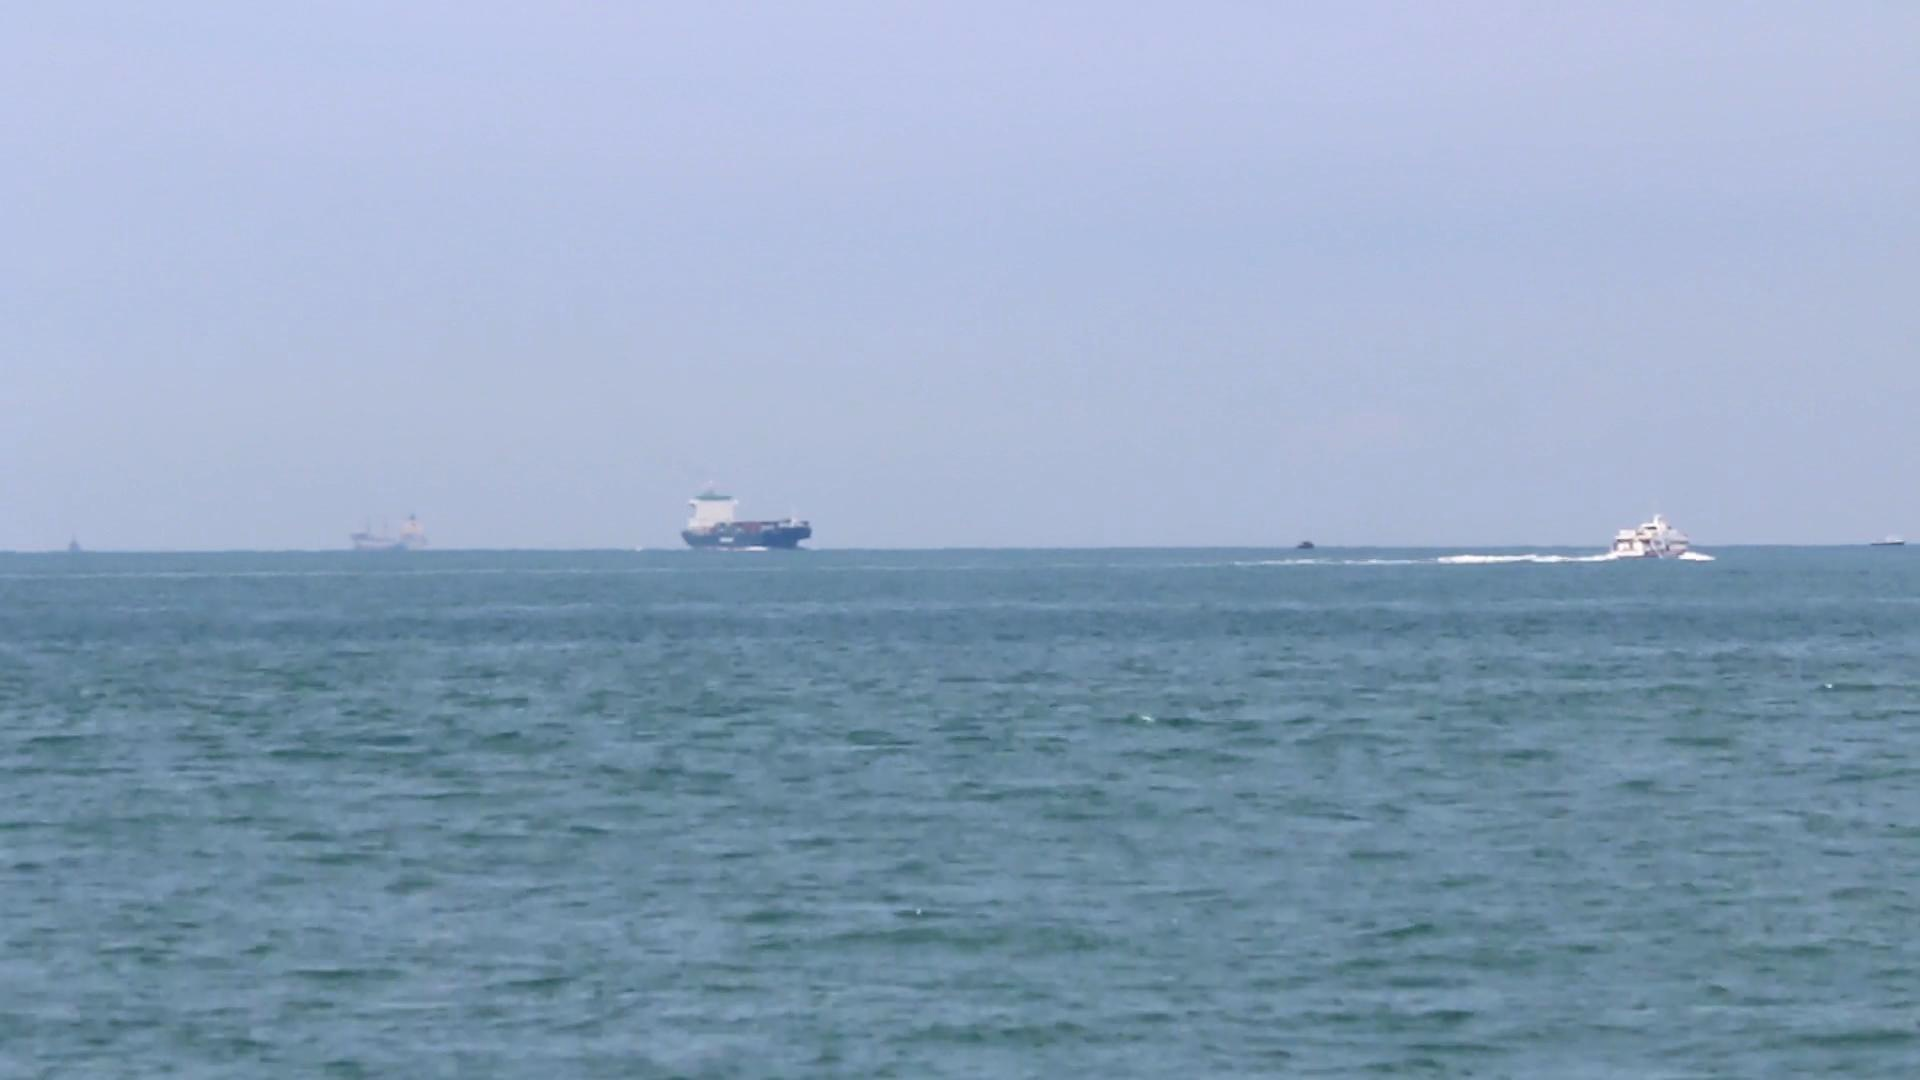Container Ship: (674, 471, 820, 560), (344, 502, 438, 559), (1866, 529, 1917, 553)
